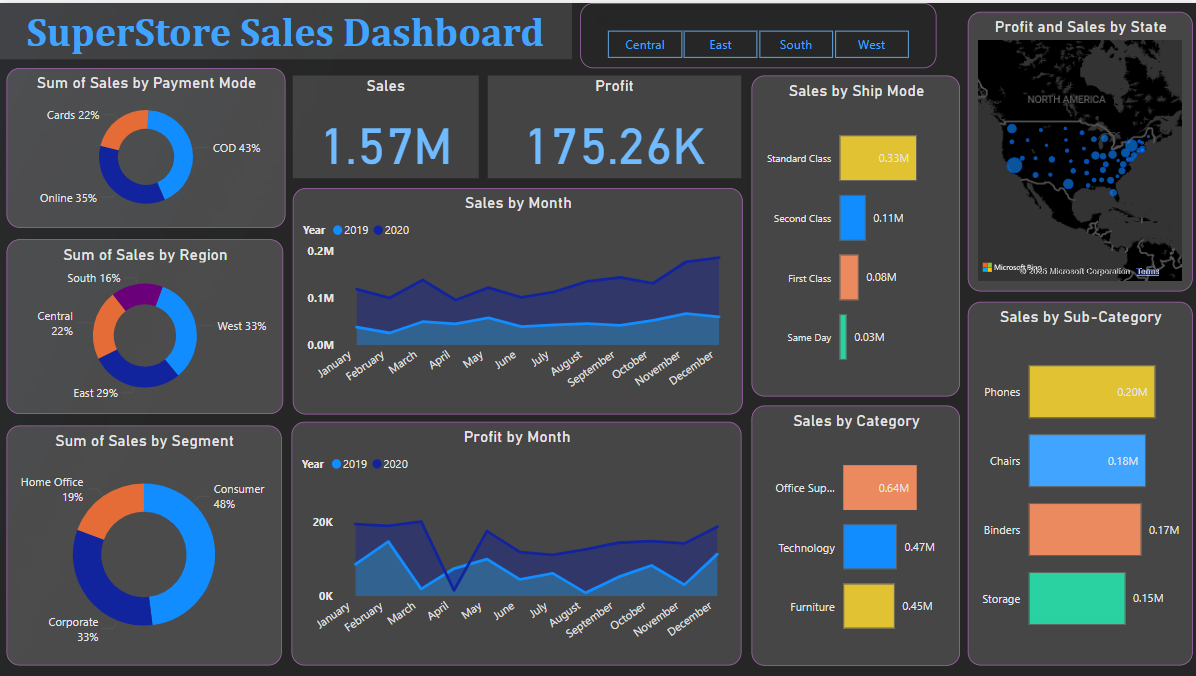

Layout of this report page (visuals, bound fields, positions):
{"tool":"powerbi","page":{"name":"Page 1","canvas":[1280,720],"ordinal":0},"visuals":[{"type":"clusteredBarChart","title":"Sales by Category","fields":{"Category":["SuperStore_Sales_Dataset.Category"],"Y":["Sum(SuperStore_Sales_Dataset.Sales)"]},"box":[802.7,429.3,222.7,277.3],"z":0},{"type":"clusteredBarChart","title":"Sales by Ship Mode","fields":{"Category":["SuperStore_Sales_Dataset.Ship Mode"],"Y":["Sum(SuperStore_Sales_Dataset.Sales)"]},"box":[802.7,77.3,222.7,342.7],"z":1000},{"type":"clusteredBarChart","title":"Sales by Sub-Category","fields":{"Category":["SuperStore_Sales_Dataset.Sub-Category"],"Y":["Sum(SuperStore_Sales_Dataset.Sales)"]},"box":[1033.3,318.7,240,388],"z":2000},{"type":"stackedAreaChart","title":"Sales by Month","fields":{"Y":["Sum(SuperStore_Sales_Dataset.Sales)"],"Category":["SuperStore_Sales_Dataset.Order Date.Variation.Date Hierarchy.Month","SuperStore_Sales_Dataset.Order Date.Variation.Date Hierarchy.Day"],"Series":["SuperStore_Sales_Dataset.Order Date.Variation.Date Hierarchy.Year"]},"box":[313.3,197.3,480,241.3],"z":3000},{"type":"stackedAreaChart","title":"Profit by Month","fields":{"Category":["SuperStore_Sales_Dataset.Order Date.Variation.Date Hierarchy.Month","SuperStore_Sales_Dataset.Order Date.Variation.Date Hierarchy.Day"],"Series":["SuperStore_Sales_Dataset.Order Date.Variation.Date Hierarchy.Year"],"Y":["Sum(SuperStore_Sales_Dataset.Profit)"]},"box":[312,446.7,480,260],"z":4000},{"type":"map","title":"Profit and Sales by State","fields":{"Category":["SuperStore_Sales_Dataset.State"],"Size":["Sum(SuperStore_Sales_Dataset.Sales)"]},"box":[1033.3,9.3,240,298.7],"z":5000},{"type":"donutChart","fields":{"Category":["SuperStore_Sales_Dataset.Segment"],"Y":["Sum(SuperStore_Sales_Dataset.Sales)"]},"box":[8,450.7,293.3,256],"z":6000},{"type":"donutChart","fields":{"Category":["SuperStore_Sales_Dataset.Region"],"Y":["Sum(SuperStore_Sales_Dataset.Sales)"]},"box":[8,252,295,186],"z":7000},{"type":"donutChart","fields":{"Category":["SuperStore_Sales_Dataset.Payment Mode"],"Y":["Sum(SuperStore_Sales_Dataset.Sales)"]},"box":[8,69.3,297.3,170.7],"z":8000},{"type":"slicer","fields":{"Values":["SuperStore_Sales_Dataset.Region"]},"box":[620,0,380,69.3],"z":9000},{"type":"textbox","box":[0,0,610.8,60],"z":10000},{"type":"cardVisual","title":"Sales","fields":{"Data":["Sum(SuperStore_Sales_Dataset.Sales)"]},"box":[313.3,77.3,198.7,109.3],"z":11000},{"type":"cardVisual","title":"Profit","fields":{"Data":["Sum(SuperStore_Sales_Dataset.Profit)"]},"box":[521.3,77.3,270.7,109.3],"z":12000}]}

Visuals, with their boxes in screenshot pixels (x1, y1, x2, y2), scaled from the page's 1280x720 canvas onto the 1196x676 screenshot:
"Sales by Category" clusteredBarChart: 750,403,958,663
"Sales by Ship Mode" clusteredBarChart: 750,73,958,394
"Sales by Sub-Category" clusteredBarChart: 965,299,1190,664
"Sales by Month" stackedAreaChart: 293,185,741,412
"Profit by Month" stackedAreaChart: 292,419,740,664
"Profit and Sales by State" map: 965,9,1190,289
donutChart - SuperStore_Sales_Dataset.Segment x Sum(SuperStore_Sales_Dataset.Sales): 7,423,282,664
donutChart - SuperStore_Sales_Dataset.Region x Sum(SuperStore_Sales_Dataset.Sales): 7,237,283,411
donutChart - SuperStore_Sales_Dataset.Payment Mode x Sum(SuperStore_Sales_Dataset.Sales): 7,65,285,225
slicer - SuperStore_Sales_Dataset.Region: 579,0,934,65
textbox: 0,0,571,56
"Sales" cardVisual: 293,73,478,175
"Profit" cardVisual: 487,73,740,175
